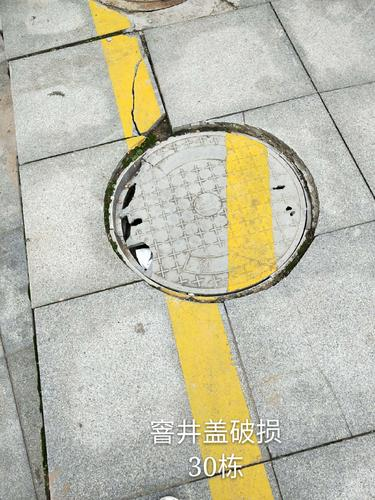broke: (95, 122, 326, 309)
